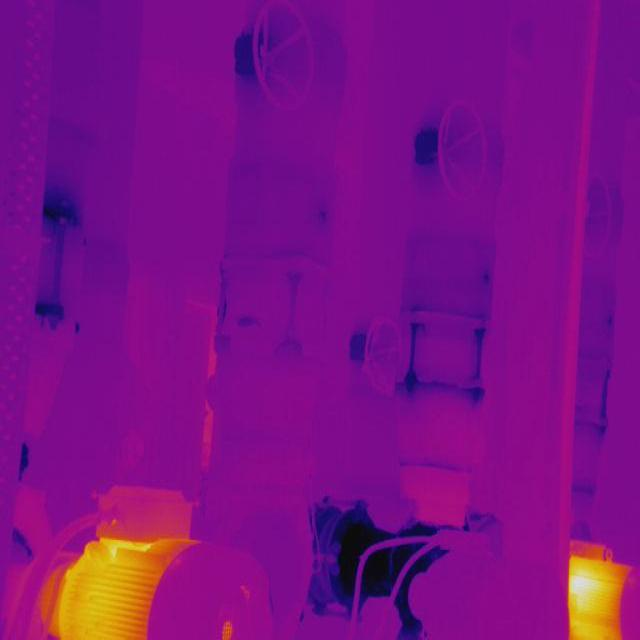leakage: (232, 310, 264, 330), (473, 264, 492, 286), (311, 205, 330, 226), (604, 306, 616, 330)
